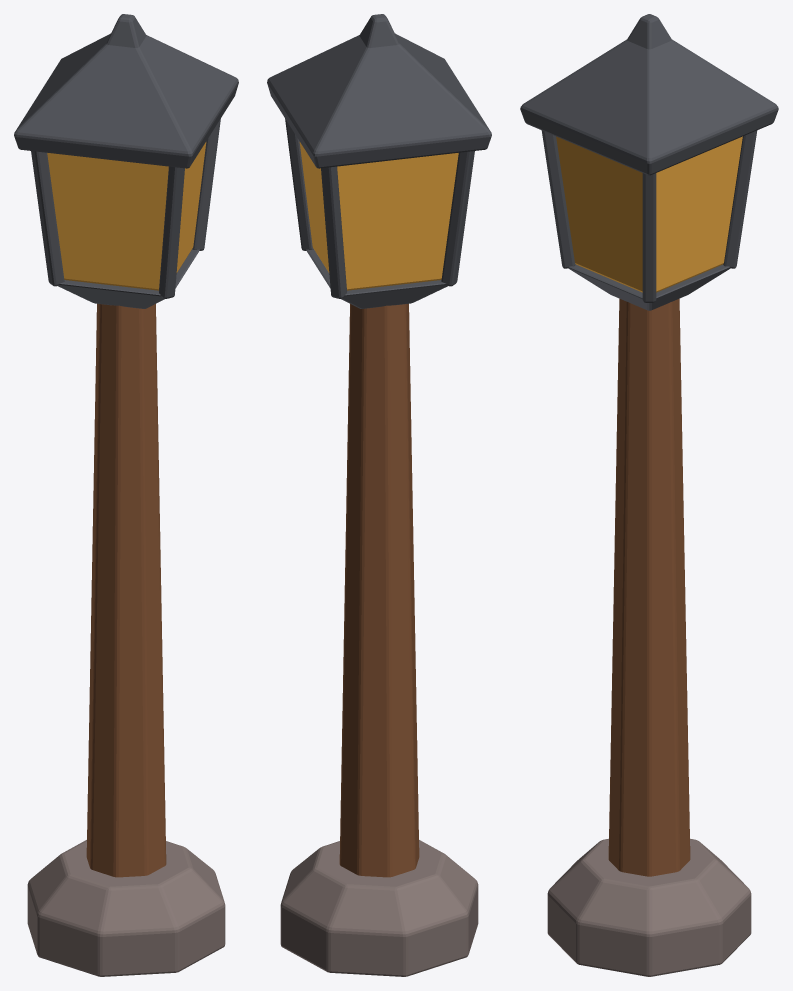
File: ashwick-street-lantern.meshopt.glb
3 views of the same model, side by side, from view 1: azimuth 30°, elevation 25°; view 2: azimuth 150°, elevation 25°; view 3: azimuth 270°, elevation 25° (orthographic).
Visible parts, largest first — view 1: Post.001, Lantern hood.001, Stone foot.001, Amber panes.001, Lantern frame.001, Lantern base.001; view 2: Post.001, Lantern hood.001, Stone foot.001, Amber panes.001, Lantern frame.001, Lantern base.001; view 3: Post.001, Lantern hood.001, Stone foot.001, Amber panes.001, Lantern frame.001, Lantern base.001.
Part boxes in pixels (bbox=[...]): Post.001: bbox=[86, 303, 166, 877]; Lantern hood.001: bbox=[14, 14, 238, 168]; Stone foot.001: bbox=[27, 840, 225, 976]; Amber panes.001: bbox=[47, 142, 206, 290]; Lantern frame.001: bbox=[31, 118, 220, 298]; Lantern base.001: bbox=[58, 249, 199, 308]; Post.001: bbox=[339, 303, 419, 877]; Lantern hood.001: bbox=[267, 14, 491, 168]; Stone foot.001: bbox=[280, 840, 478, 976]; Amber panes.001: bbox=[299, 142, 458, 290]; Lantern frame.001: bbox=[285, 118, 474, 298]; Lantern base.001: bbox=[306, 249, 447, 308]; Post.001: bbox=[608, 298, 690, 876]; Lantern hood.001: bbox=[520, 14, 778, 175]; Stone foot.001: bbox=[547, 838, 751, 976]; Amber panes.001: bbox=[556, 136, 742, 292]; Lantern frame.001: bbox=[541, 130, 757, 302]; Lantern base.001: bbox=[568, 264, 730, 310].
Size of the model in its own units: 0.806 by 3.16 by 0.806.
